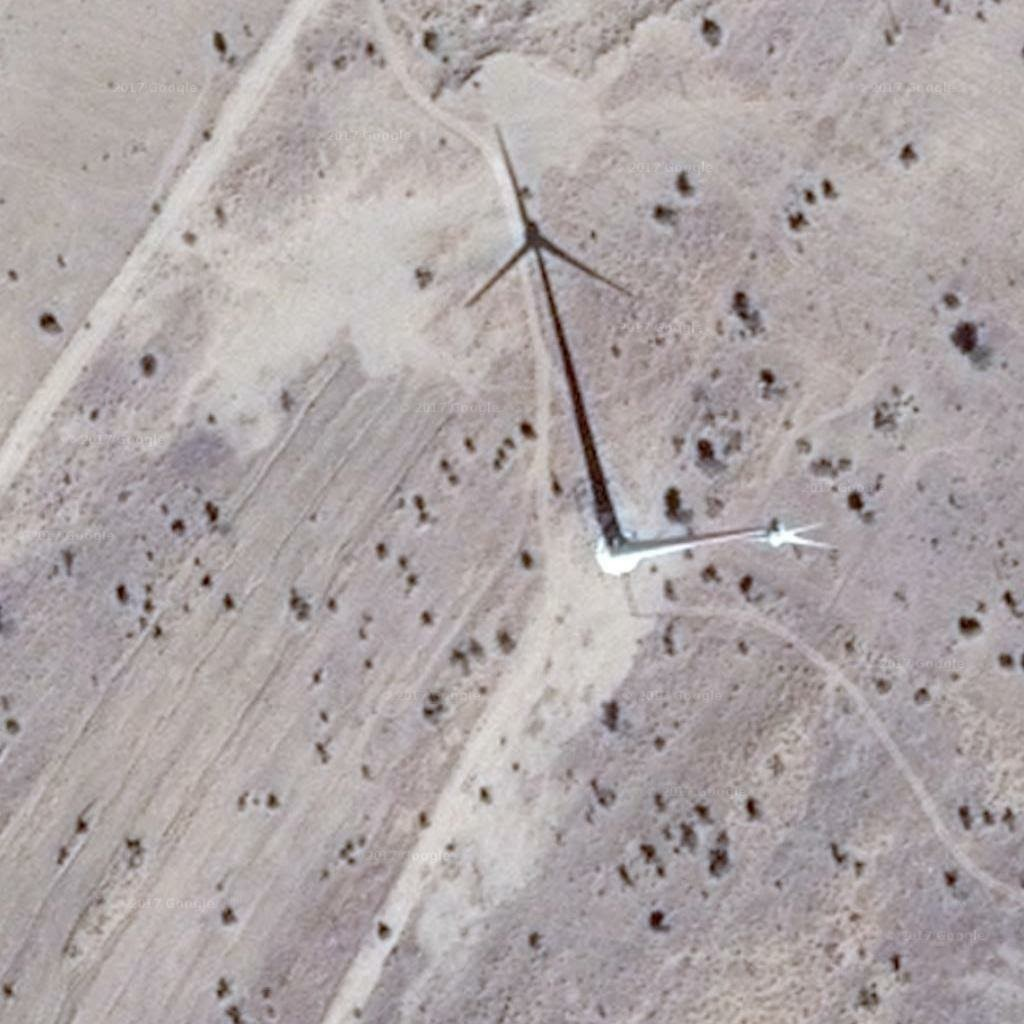Windmill: (461, 126, 638, 547)
